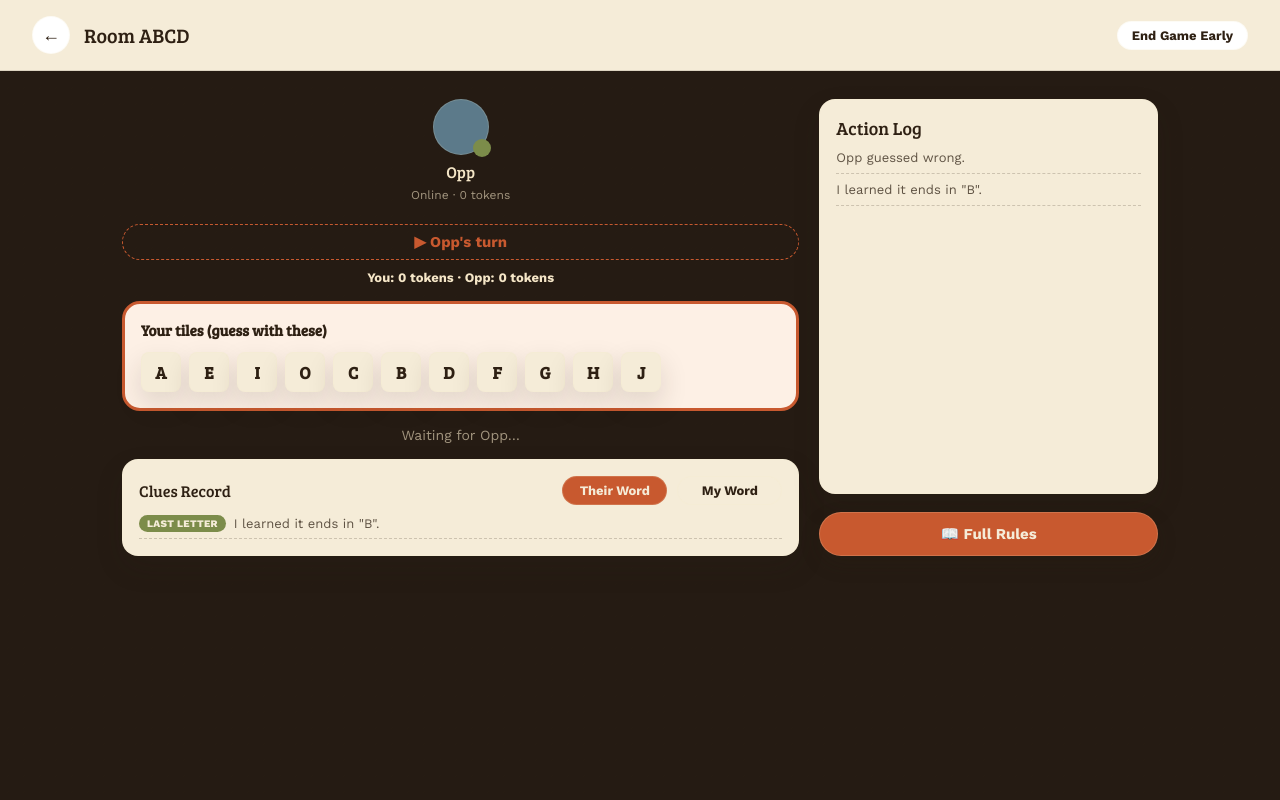
Test: WordyTableContainer › clueOrGuess: renders the Clues Record filtered to what I've gathered, and toggles to what they know about my word
The image size is (1280, 800).
expect the button "Last Letter" is shown: met, box [139,515,226,532]
expect the text "\"DOG\"" is not shown: met
What coordinates should you click on to do the following:
click the text "My Word"
I would click on:
 (730, 490)
Its box is [677,476,782,505].
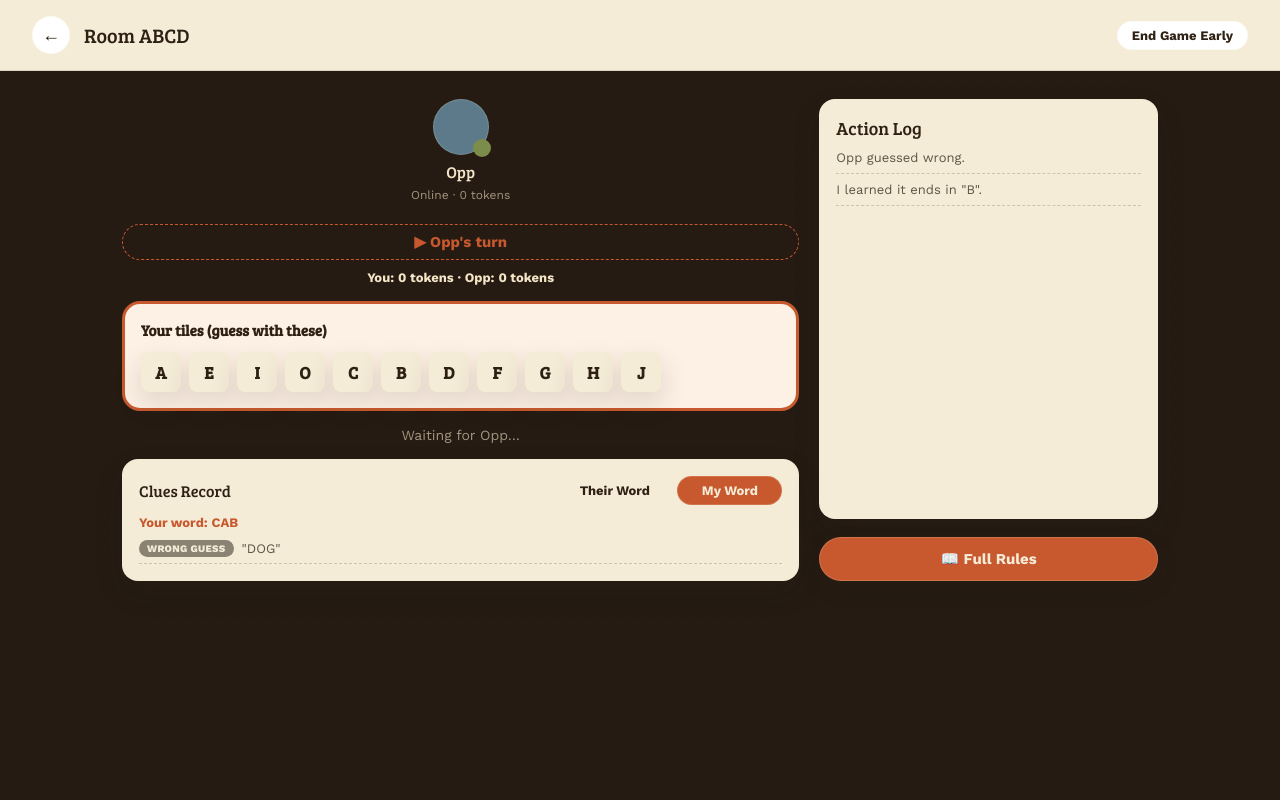
expect the text "Your word: CAB" is shown: met, box [139,515,238,530]
expect the text "\"DOG\"" is shown: met, box [242,541,280,556]
